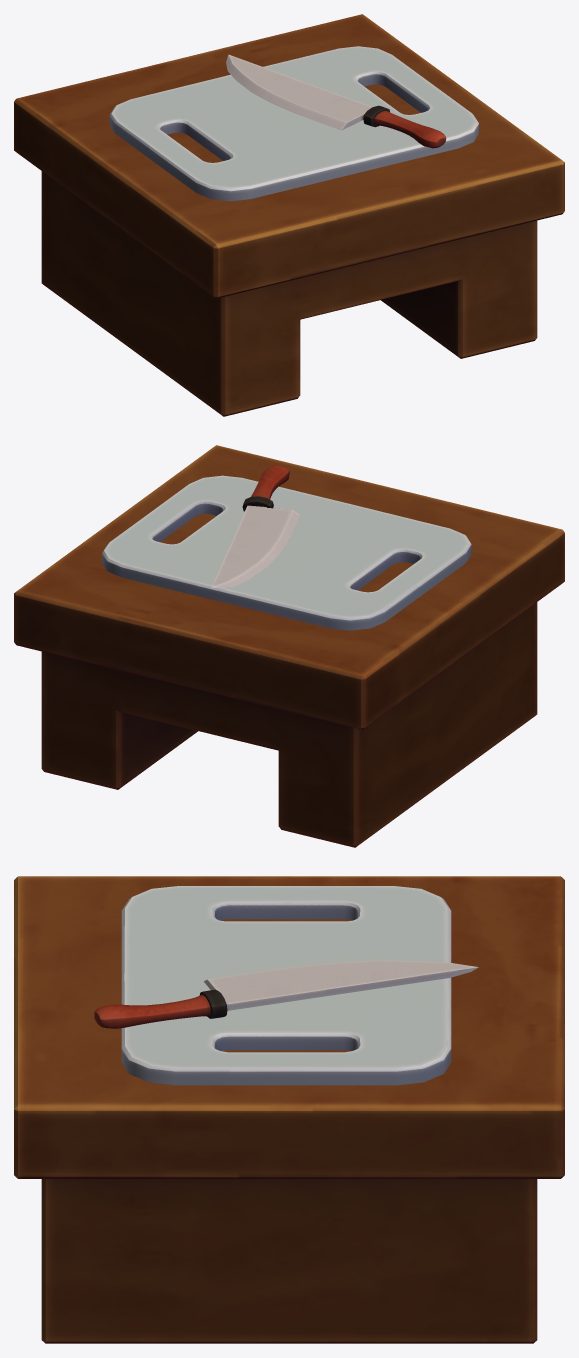
The model's file is cutting_board_table.glb.
The picture shows the model from 3 angles, top to bottom: view 1: azimuth 30°, elevation 25°; view 2: azimuth 150°, elevation 25°; view 3: azimuth 270°, elevation 25°; orthographic projection. The views are drawn at different scales.
Visible parts, largest first — view 1: cuttingboard; view 2: cuttingboard; view 3: cuttingboard.
Boxes of the visible parts, bbox=[...] form: cuttingboard: bbox=[14, 14, 564, 416]; cuttingboard: bbox=[14, 445, 564, 847]; cuttingboard: bbox=[14, 876, 564, 1343].
Size of the model in its own units: 2 by 1.15 by 2.
Materials: 2 (2 with a texture image).
